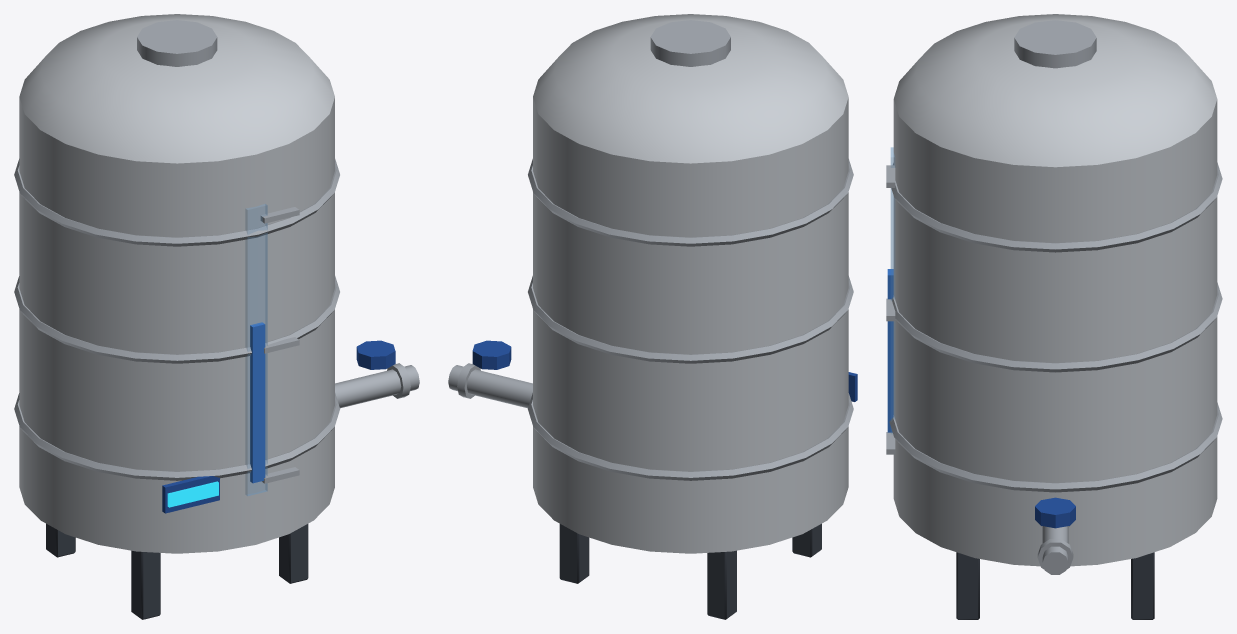
Rendered from watertank_potable_water_tank.glb.
3 renders of one model, left to right at view 1: azimuth 30°, elevation 25°; view 2: azimuth 150°, elevation 25°; view 3: azimuth 270°, elevation 25°, orthographic. The views are drawn at different scales.
Parts seen in each view (by area): view 1: watertank_potable_water_tank; view 2: watertank_potable_water_tank; view 3: watertank_potable_water_tank.
Part boxes in pixels (<box>): watertank_potable_water_tank: <box>14,14,419,619</box>; watertank_potable_water_tank: <box>448,14,857,619</box>; watertank_potable_water_tank: <box>886,14,1222,619</box>.
Bounding box in the file's own units: 1.52 × 2.03 × 1.14.
